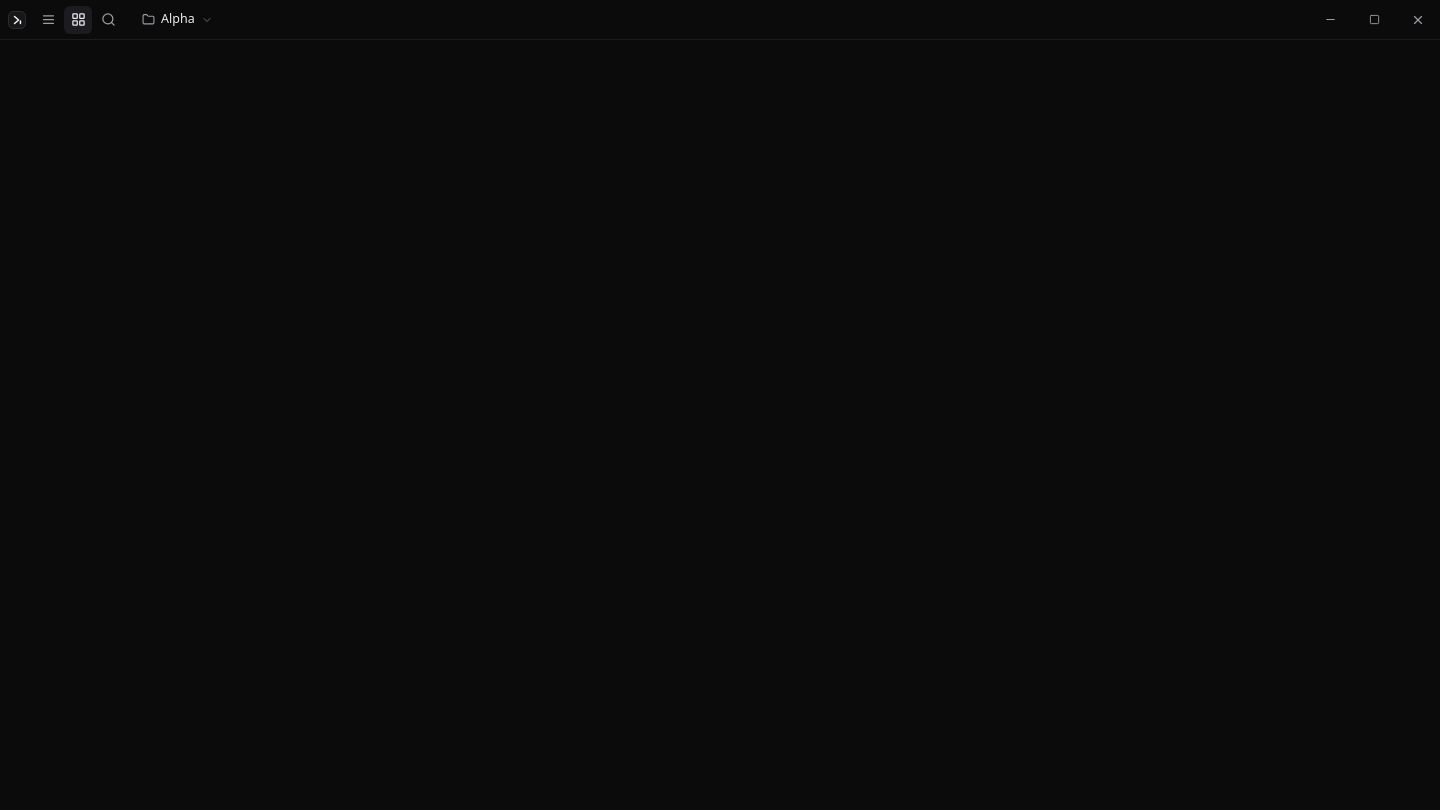
Test case: TopBar › search popup › closes on Escape
Click the button with test id "topbar-search".
click(108, 20)  # box [94,6,122,34]
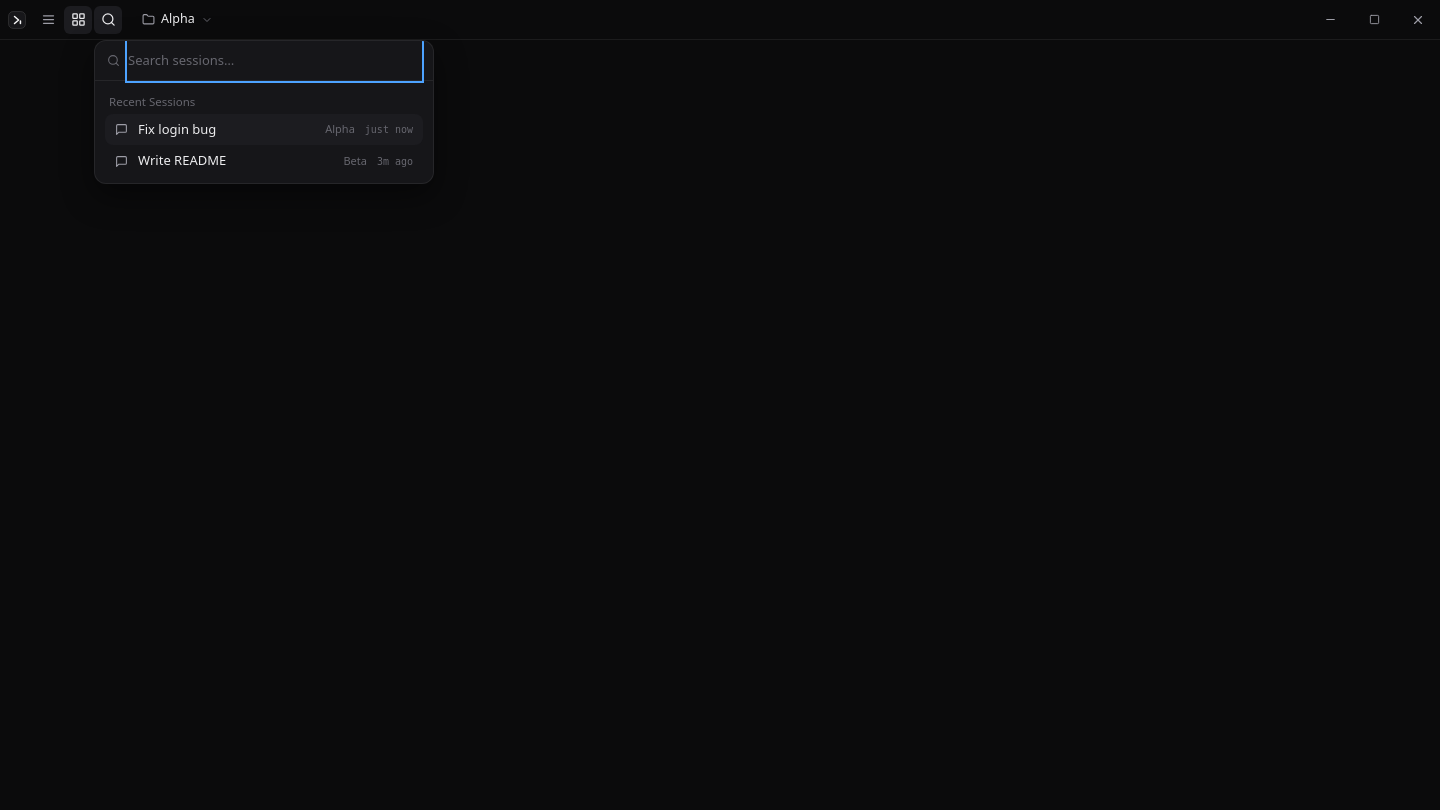
Result: the dialog with test id "search-sessions" is shown at [94,40,434,184]
Press Escape in the field with test id "search-input", box [128,40,421,80]
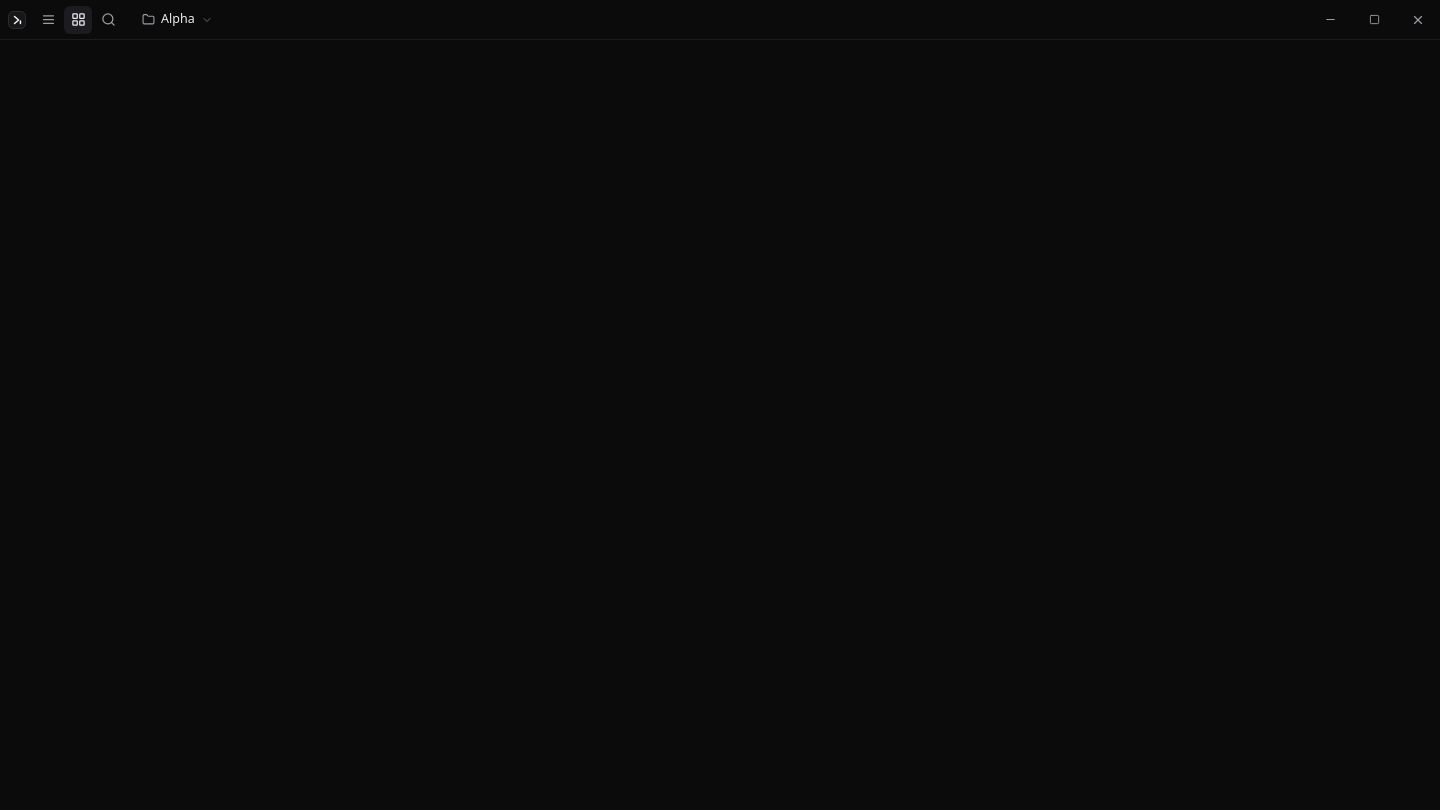
Result: the dialog with test id "search-sessions" is gone
